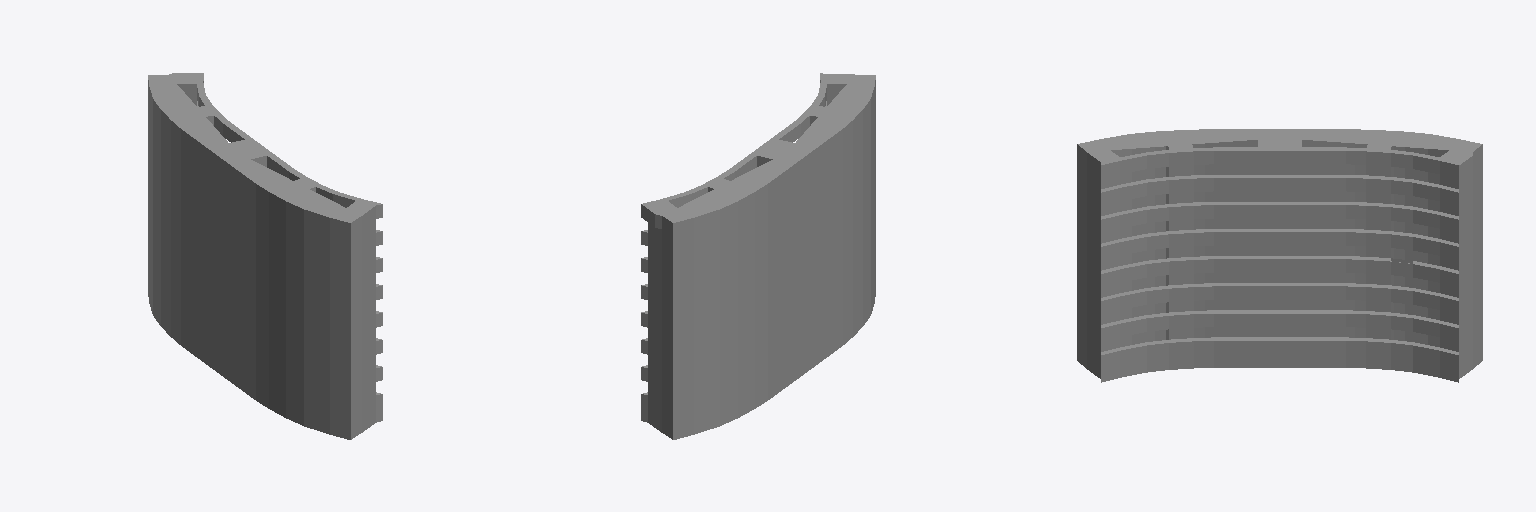
File: WoodenPartition.obj
3 renders of one model, left to right at view 1: azimuth 30°, elevation 25°; view 2: azimuth 150°, elevation 25°; view 3: azimuth 270°, elevation 25°, orthographic.
Parts seen in each view (by area): view 1: Cube_Cube.002; view 2: Cube_Cube.002; view 3: Cube_Cube.002.
Part boxes in pixels (x1,y1,x2,y2): Cube_Cube.002: (148, 73, 382, 439); Cube_Cube.002: (641, 73, 875, 439); Cube_Cube.002: (1077, 129, 1482, 382).
Size of the model in its own units: 2.52 by 7.04 by 11.91.